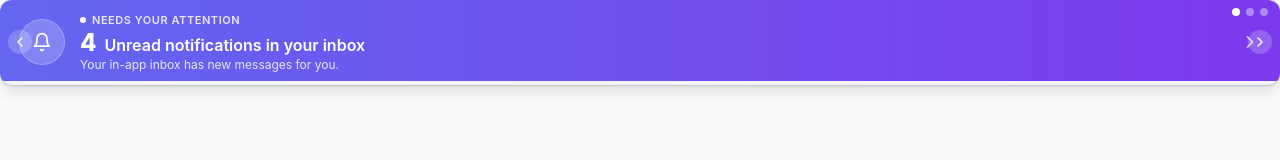
Test: NotificationSlideshow › builds unread totals plus per-category slides with one dot per slide
Check: the text "Unread notifications in your inbox" is shown, box [104,32,365,56]
Dot #2 jumps to the biggest category slide.
Click the button named "Go to summary 2": (1250, 12) [1246,8,1254,16]
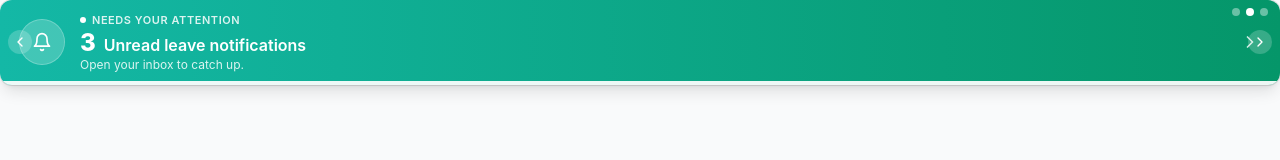
Check: the text "Unread leave notifications" is shown, box [104,32,306,56]
